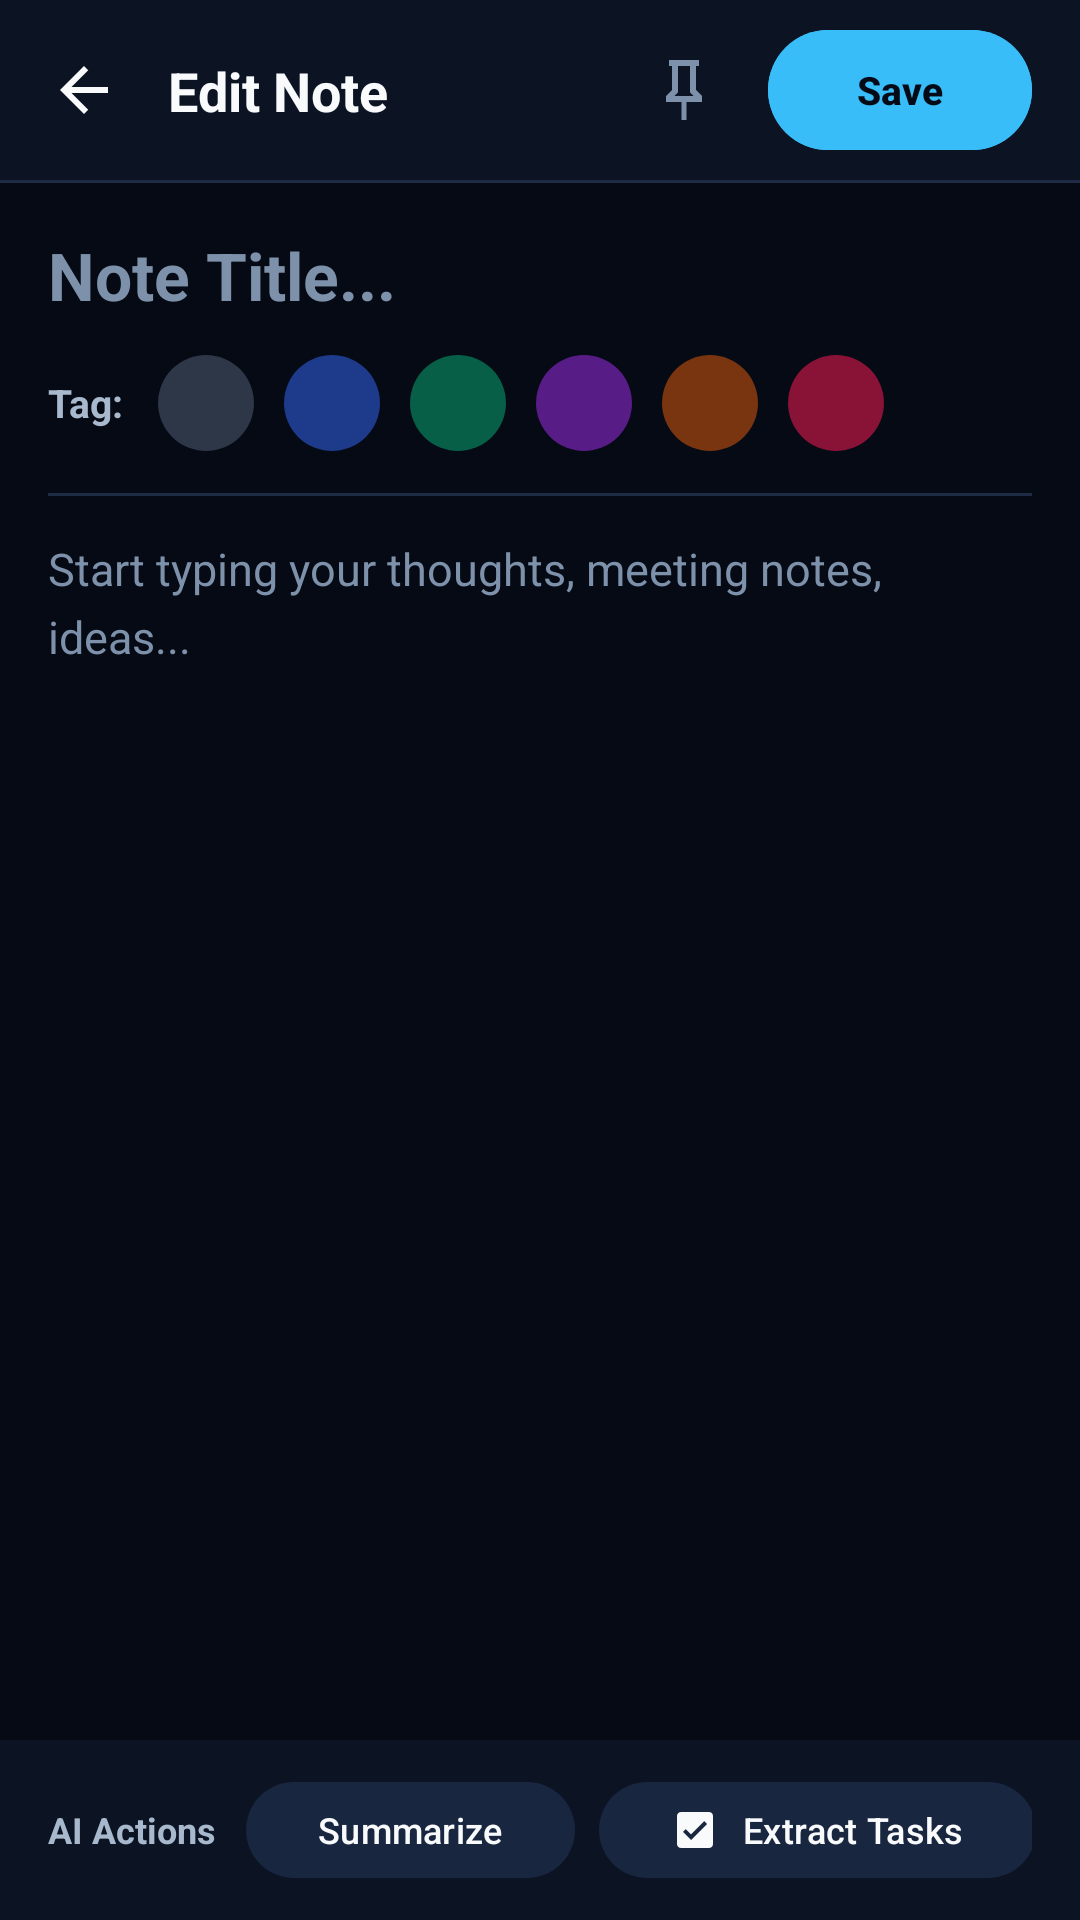

Icons on this 1080 x 1920 Android screen, each with its box as [x1=x1, y1=y1, x2=x2, y2=y2]:
Navigate back: [x1=60, y1=66, x2=108, y2=114]
Pin note: [x1=666, y1=60, x2=702, y2=120]
